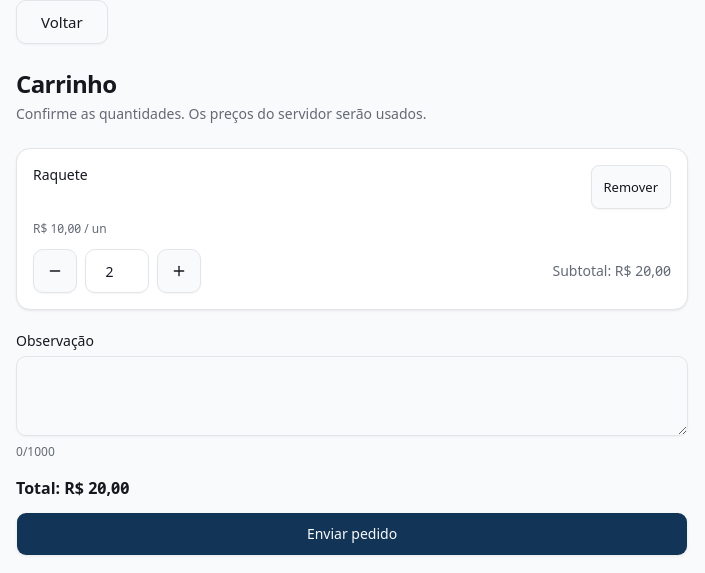
Test case: PortalCartPage validity gate › steps the quantity with the 44px -/+ buttons and shows the unit price
Click the button named "Aumentar quantidade" at (179, 271), box 157,249 -> 201,293
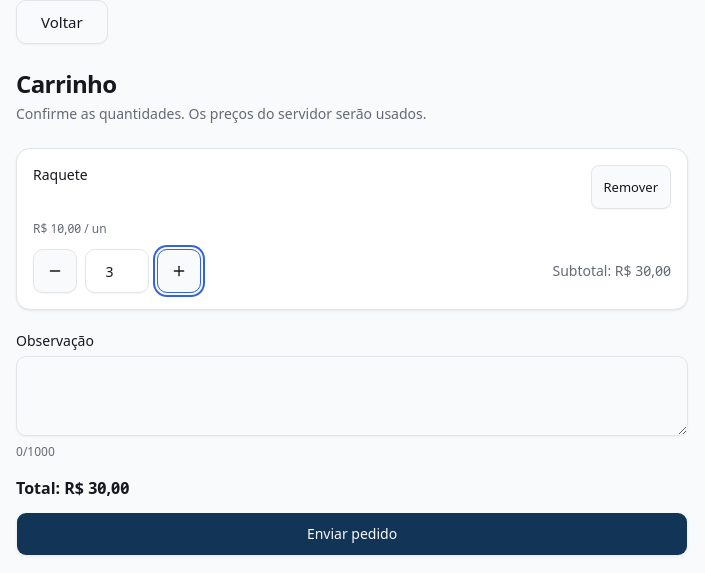
Click the button named "Diminuir quantidade" at (55, 271), box 33,249 -> 77,293
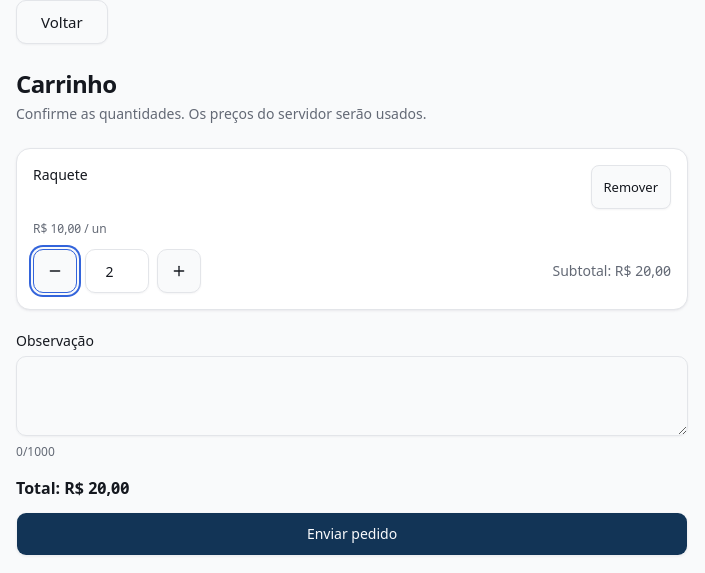
Click the button named "Diminuir quantidade" at (55, 271), box 33,249 -> 77,293
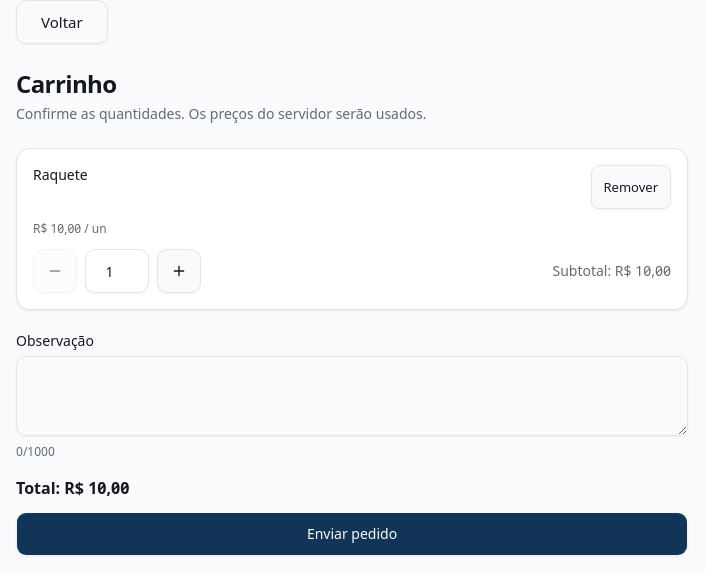
Result: the button named "Diminuir quantidade" is disabled at 33,249 -> 77,293
Replace the text in the number field named "Quantidade de Raquete" with "99" at (117, 271), box 85,249 -> 149,293
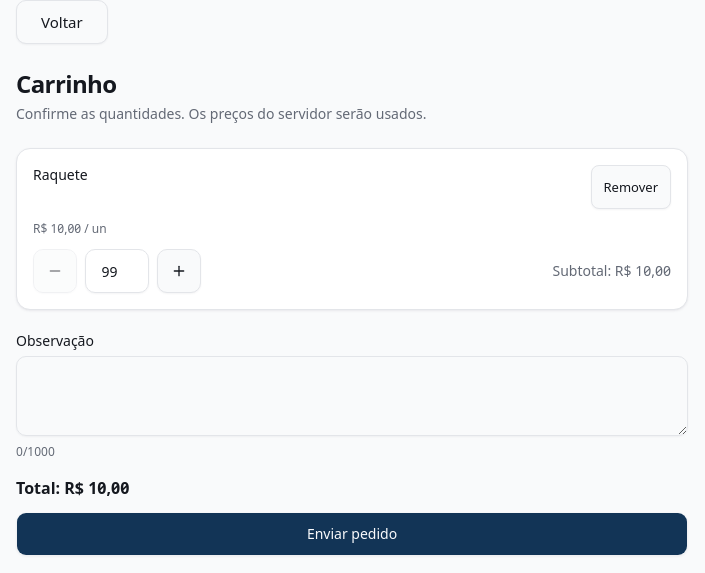
Leave the number field named "Quantidade de Raquete", box 85,249 -> 149,293
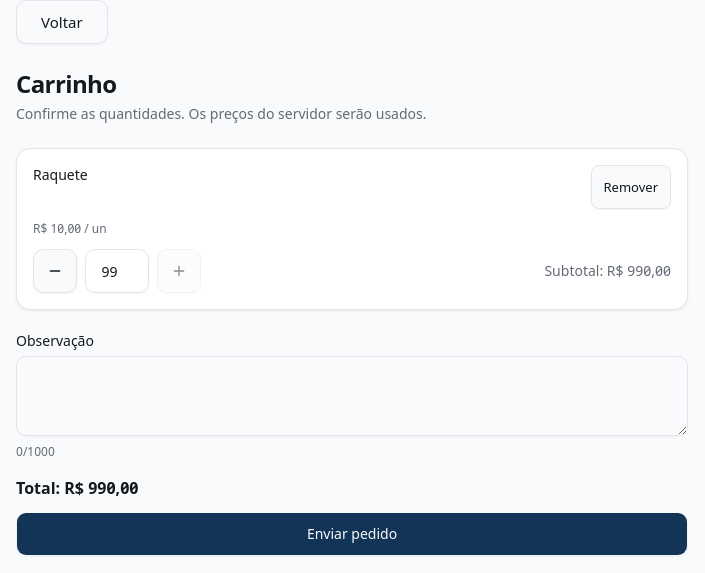
Result: the button named "Aumentar quantidade" is disabled at 157,249 -> 201,293
